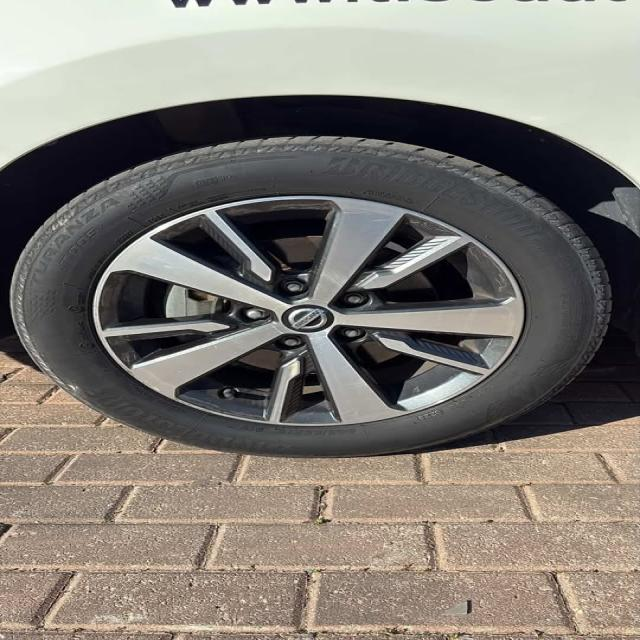jante: (90, 195, 526, 427)
parafuso: (285, 283, 301, 292), (248, 311, 262, 319), (284, 339, 298, 346), (345, 330, 358, 337), (348, 296, 360, 303)
roda: (10, 135, 615, 460)
